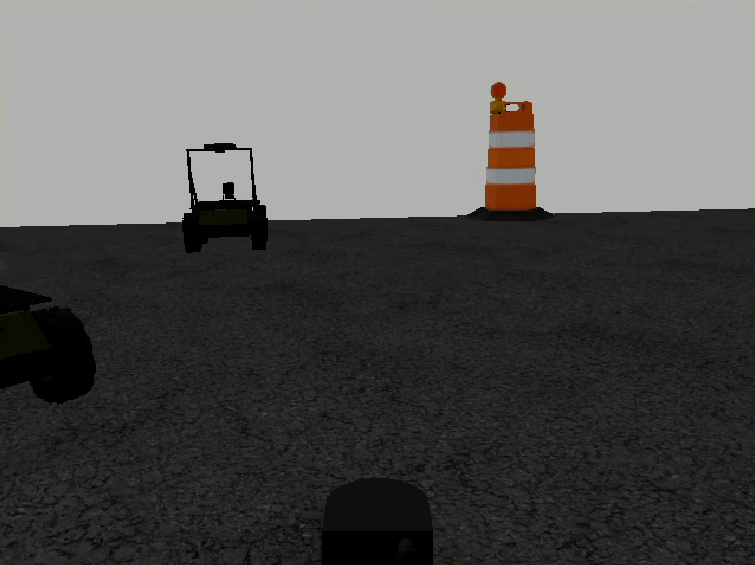husky: (1, 283, 96, 404), (182, 200, 269, 253)
